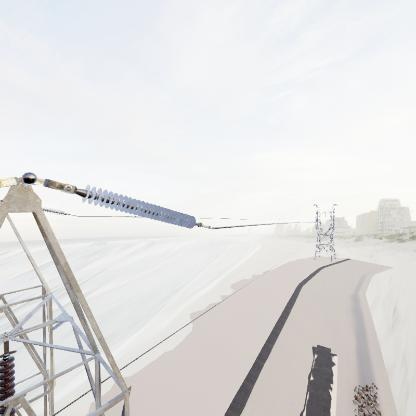insulator: (81, 180, 202, 229)
tower: (312, 202, 338, 265)
